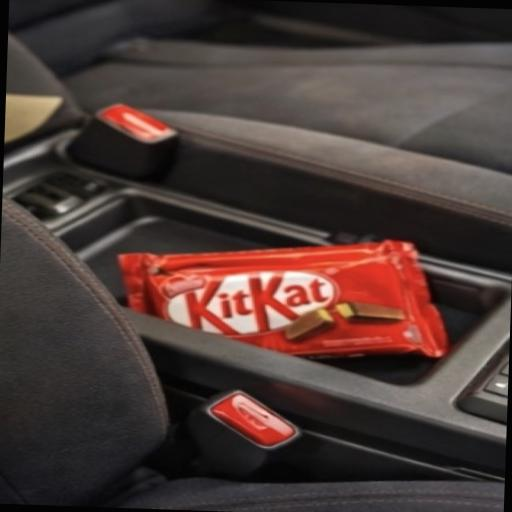kitkat: (68, 216, 496, 409)
